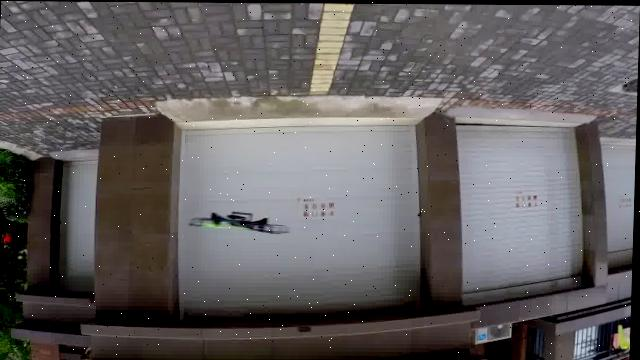drone: (180, 209, 292, 234)
